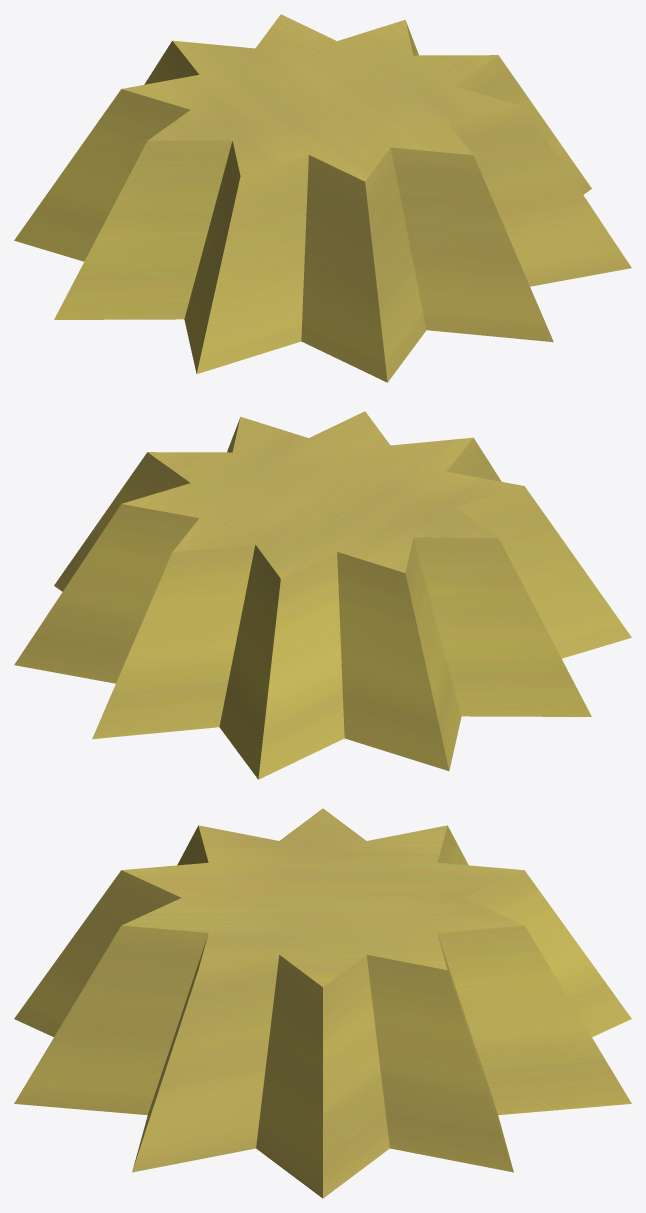
The model's file is ClockStraightBevel010.fbx.
The picture shows the model from 3 angles, top to bottom: view 1: azimuth 30°, elevation 25°; view 2: azimuth 150°, elevation 25°; view 3: azimuth 270°, elevation 25°; orthographic projection. The views are drawn at different scales.
Visible parts, largest first — view 1: ClockStraightBevel010; view 2: ClockStraightBevel010; view 3: ClockStraightBevel010.
Part boxes in pixels (left/top/right/bottom): ClockStraightBevel010: left=14, top=14, right=631, bottom=382; ClockStraightBevel010: left=14, top=411, right=631, bottom=779; ClockStraightBevel010: left=14, top=808, right=631, bottom=1198.
Size of the model in its own units: 70.87 by 19.69 by 67.4.
